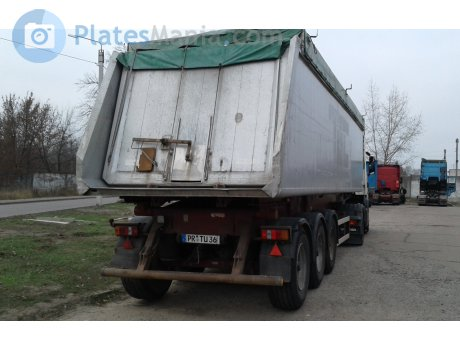License Plates: (183, 234, 217, 240)
